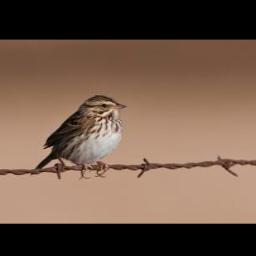Sparrow: (28, 95, 129, 178)
